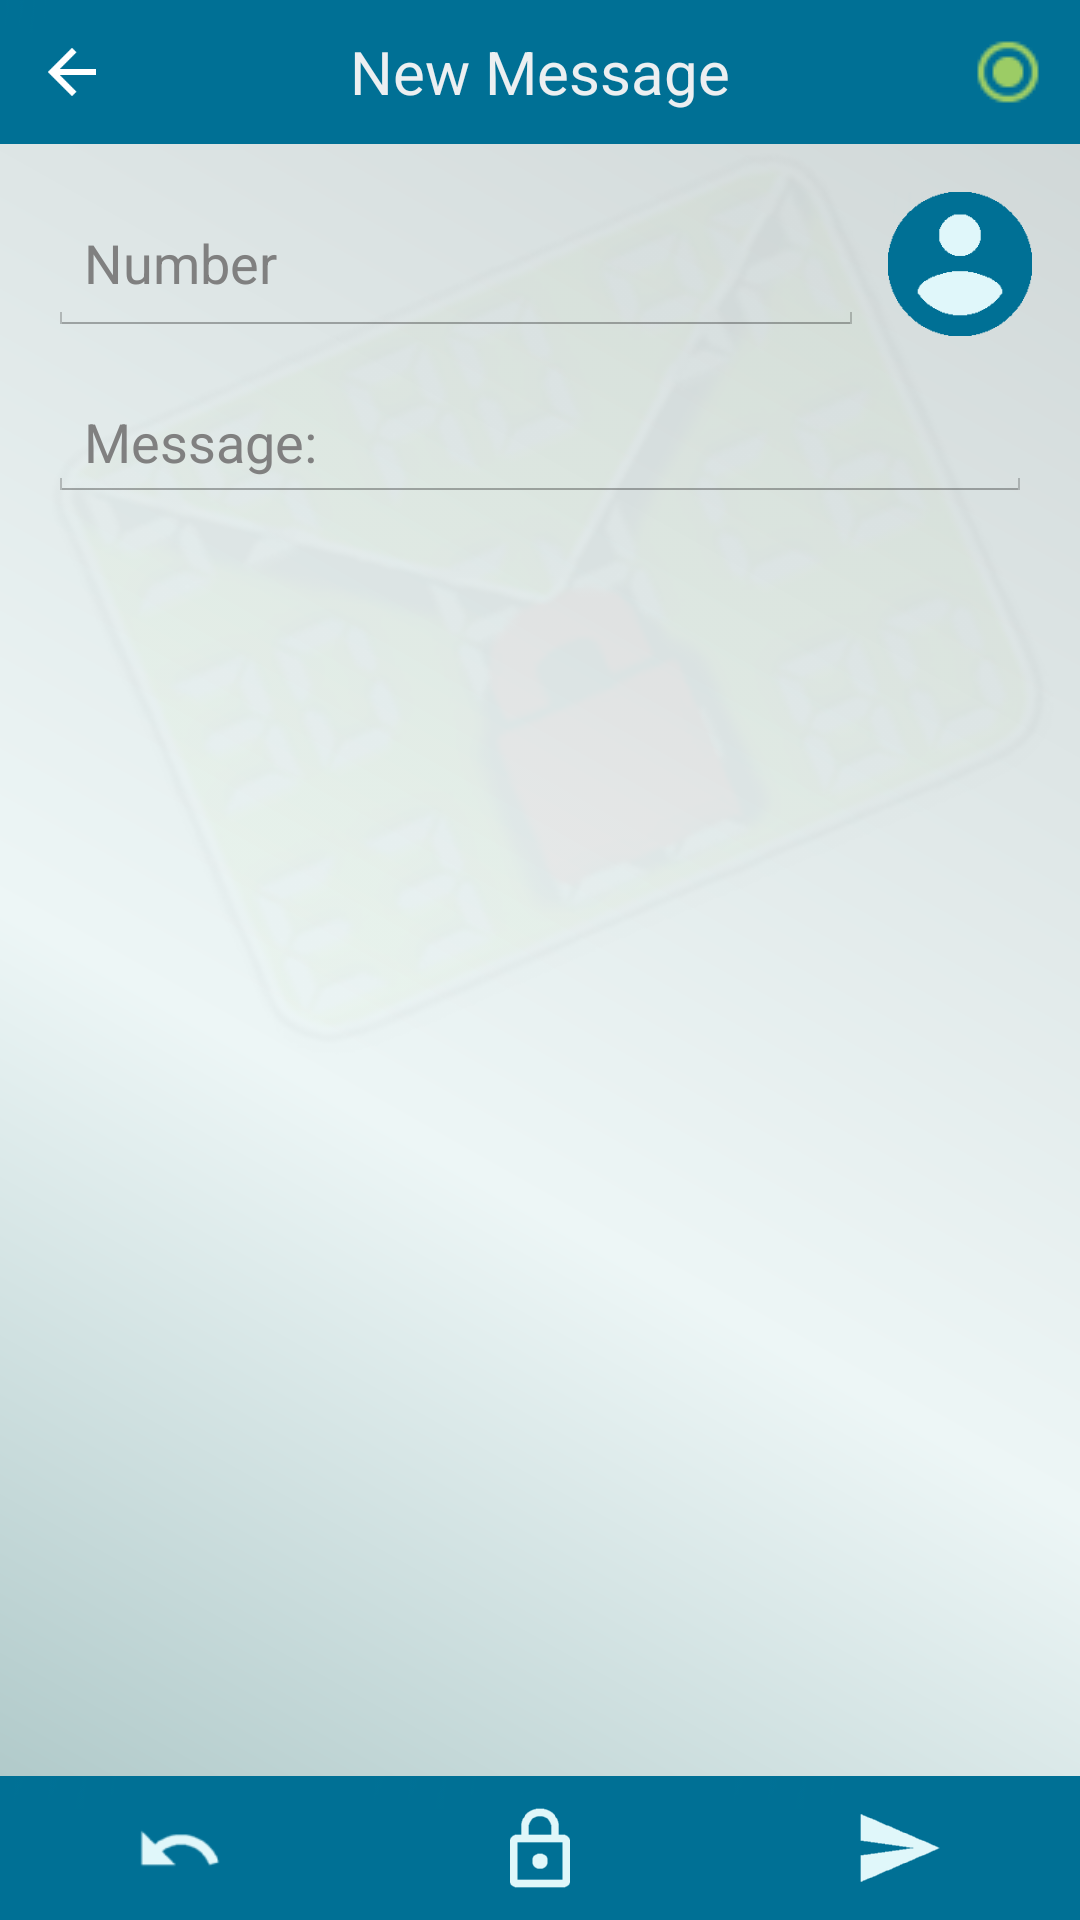

Icon bounding boxes for this 1080*1920 phone screenshot, format bbox=[x1, y1, x2, y2]:
Back: bbox=[48, 48, 96, 96]
Encrypt: bbox=[510, 1808, 570, 1888]
Send: bbox=[860, 1814, 940, 1882]
Undo: bbox=[141, 1831, 219, 1866]
